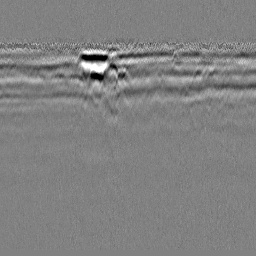cavity: (114, 66, 132, 92)
